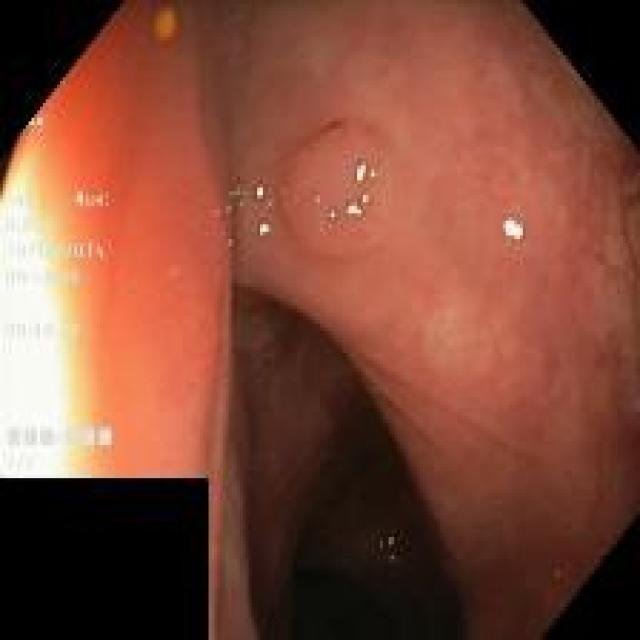Polyps: (279, 121, 394, 258)
